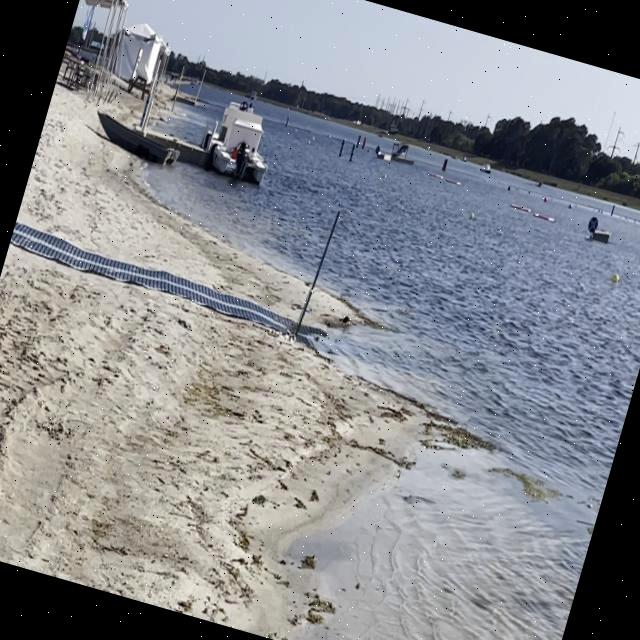buoy: (610, 272, 620, 282), (469, 210, 475, 218)
